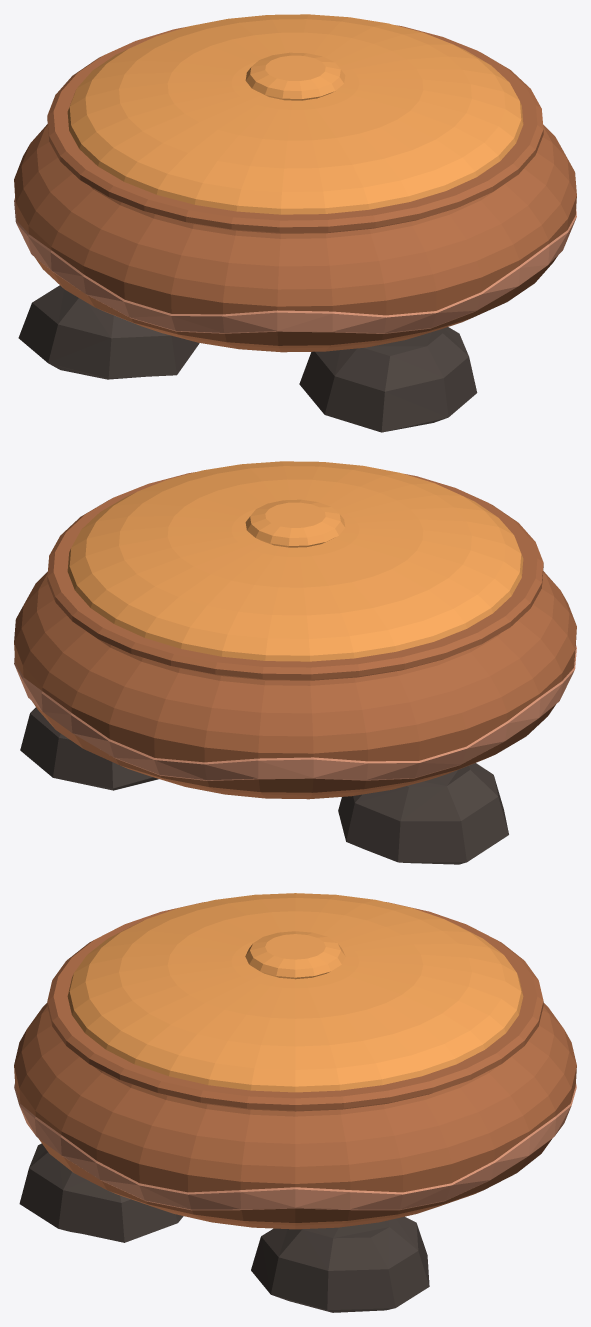
File: clayPot.glb
3 renders of one model, top to bottom at view 1: azimuth 30°, elevation 25°; view 2: azimuth 150°, elevation 25°; view 3: azimuth 270°, elevation 25°, orthographic.
Visible parts, largest first — view 1: clayPot; view 2: clayPot; view 3: clayPot.
Part boxes in pixels (x1=…): clayPot: x1=14, y1=14, x2=576, y2=432; clayPot: x1=14, y1=461, x2=576, y2=864; clayPot: x1=14, y1=893, x2=576, y2=1312.
Bounding box in the file's own units: 1.85 × 0.95 × 1.85.
Materials: 1 (1 with a texture image).
